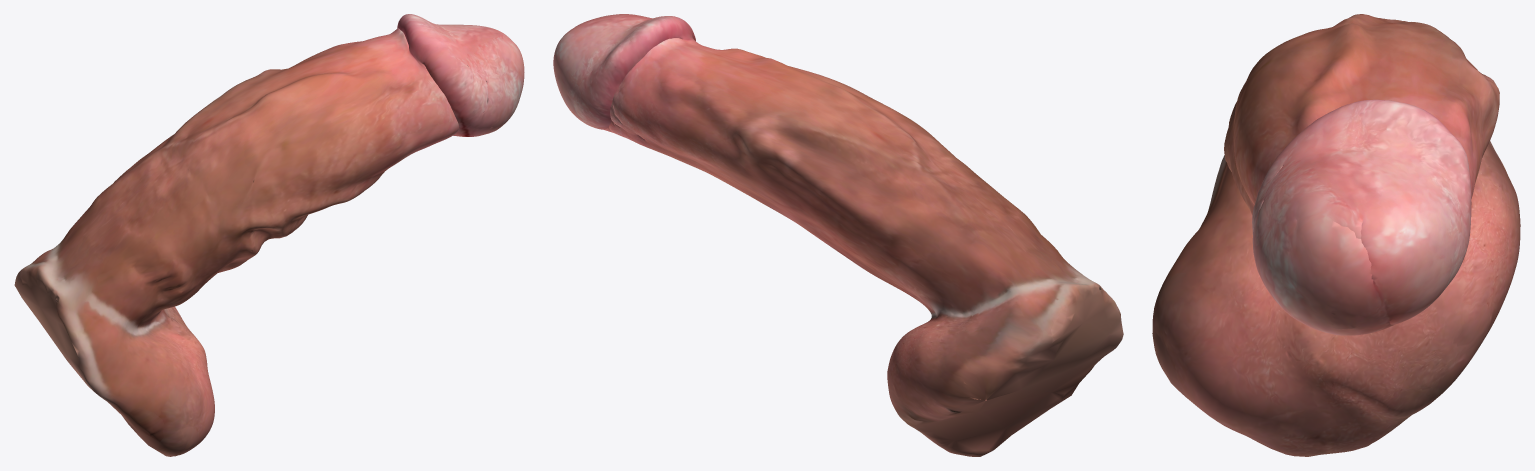
File: BONER 22.glb
3 renders of one model, left to right at view 1: azimuth 30°, elevation 25°; view 2: azimuth 150°, elevation 25°; view 3: azimuth 270°, elevation 25°, orthographic. The views are drawn at different scales.
Parts seen in each view (by area): view 1: baked_mesh_a4ac73ea; view 2: baked_mesh_a4ac73ea; view 3: baked_mesh_a4ac73ea.
Part boxes in pixels (<box>): baked_mesh_a4ac73ea: <box>14,14,524,456</box>; baked_mesh_a4ac73ea: <box>553,14,1123,456</box>; baked_mesh_a4ac73ea: <box>1152,14,1520,456</box>.
Size of the model in its own units: 8.32 by 5.71 by 3.3.
1 material, 1 textured.
